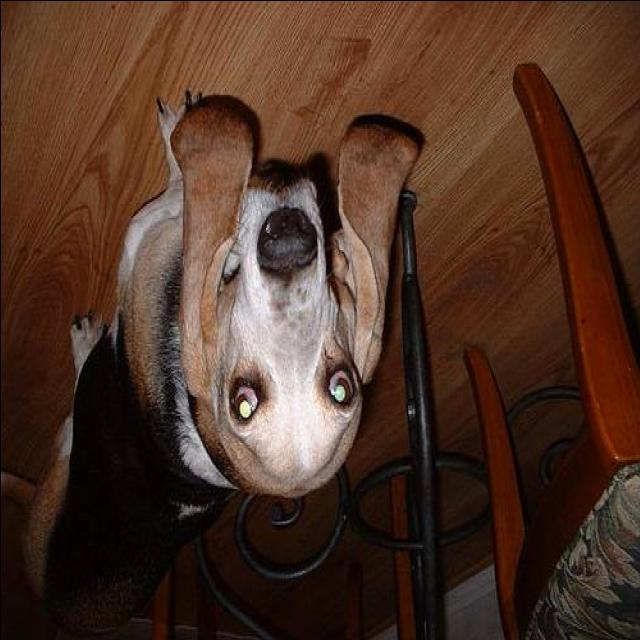basset: (19, 92, 429, 634)
